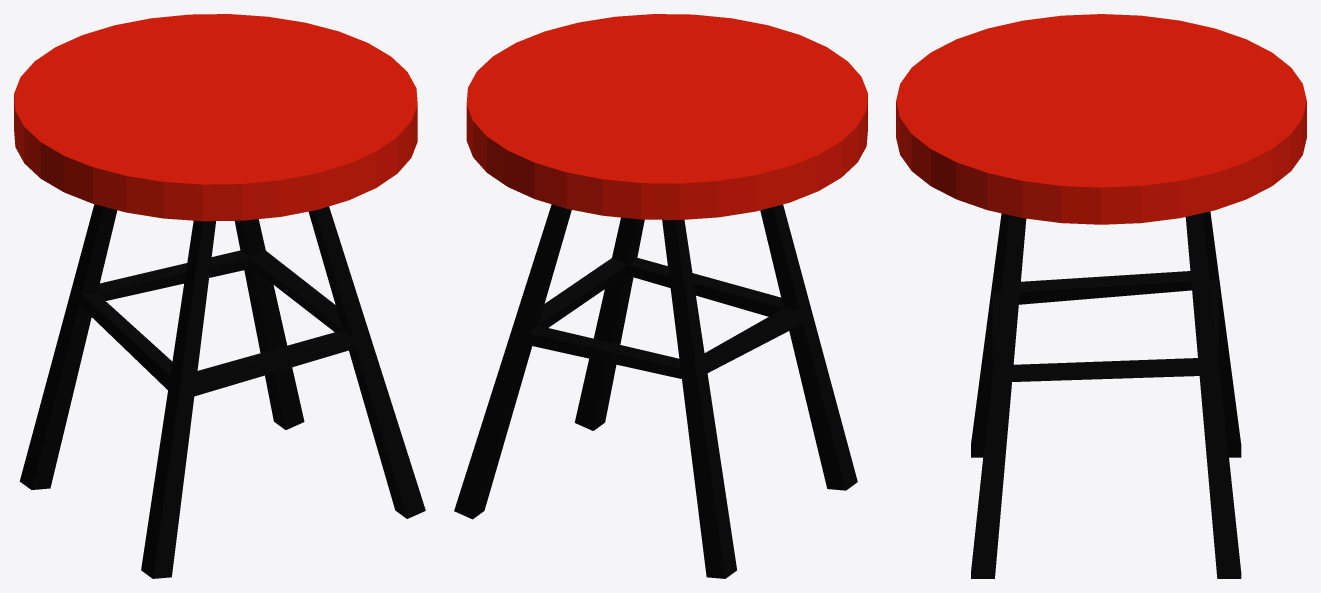
Rendered from Stool.fbx.
3 renders of one model, left to right at view 1: azimuth 30°, elevation 25°; view 2: azimuth 150°, elevation 25°; view 3: azimuth 270°, elevation 25°, orthographic. The views are drawn at different scales.
Visible parts, largest first — view 1: Cube; view 2: Cube; view 3: Cube.
Boxes of the visible parts, x1,y1,x2,y2 form: Cube: [14, 14, 425, 578]; Cube: [454, 14, 867, 578]; Cube: [896, 14, 1306, 578].
Bounding box in the file's own units: 200 × 221 × 200.
